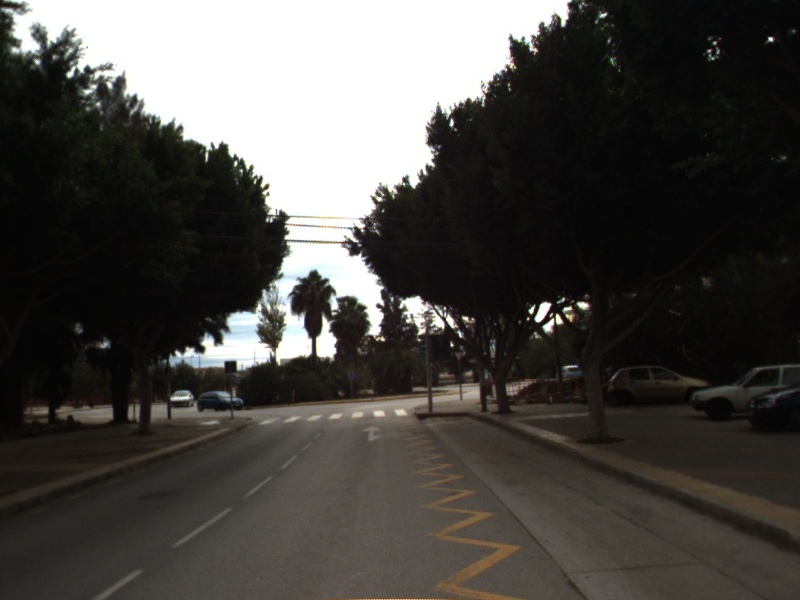STRAIGHT_RIGHT: (359, 424, 403, 443)
